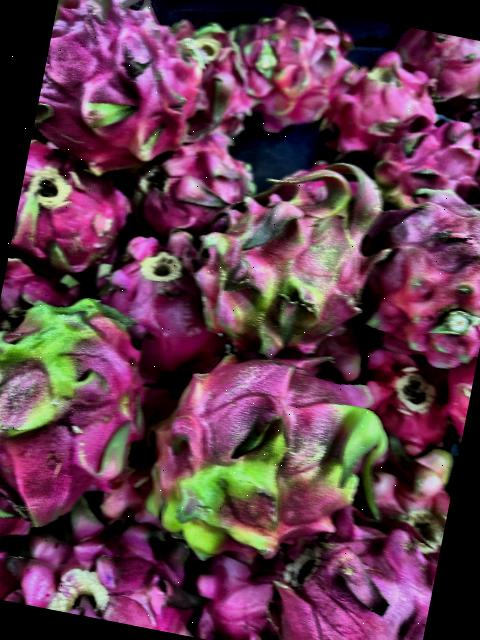buah-naga-belum-matang: (129, 316, 403, 579), (188, 140, 390, 364), (0, 281, 167, 539)
buah-naga-matang: (28, 0, 217, 184), (0, 488, 209, 635), (348, 174, 480, 368), (261, 509, 442, 640), (82, 218, 232, 376), (227, 0, 362, 132), (8, 148, 140, 280), (130, 116, 266, 242), (160, 15, 269, 136), (354, 342, 459, 448), (334, 46, 437, 154), (368, 103, 480, 200), (391, 26, 480, 113)
